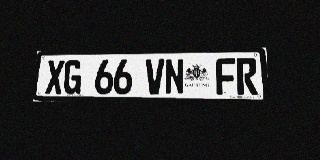6: (95, 59, 114, 94), (113, 59, 132, 94)
F: (216, 58, 237, 95)
G: (63, 60, 82, 94)
N: (165, 59, 184, 95)
R: (236, 58, 258, 95)
V: (145, 59, 164, 95)
X: (45, 60, 64, 94)
